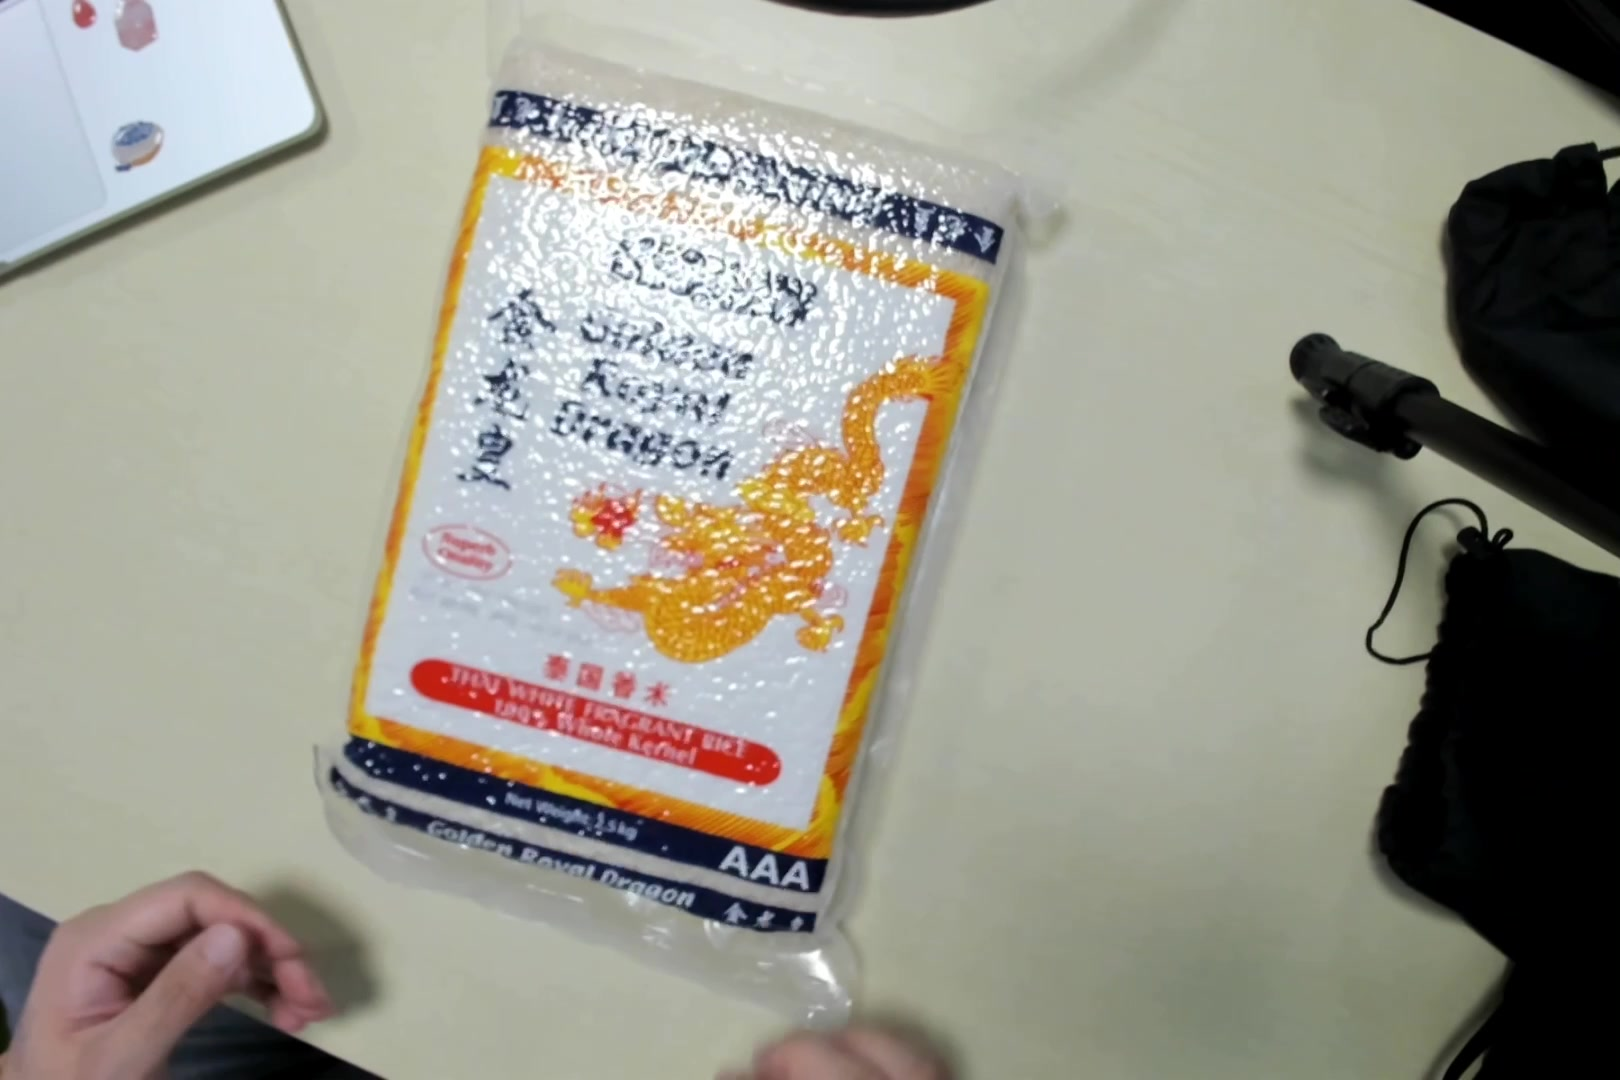Rice(White)_2000-2999g_NonHalal_NonHealthy: (344, 31, 1020, 1002)
